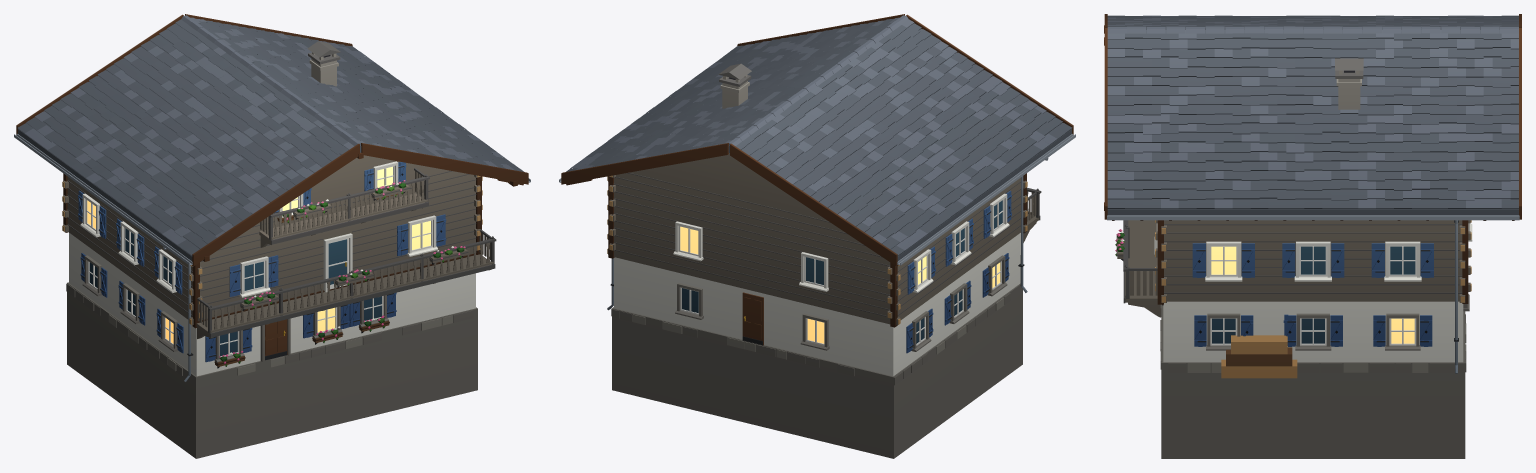
The model's file is Chalet_H.fbx.
The picture shows the model from 3 angles, left to right: view 1: azimuth 30°, elevation 25°; view 2: azimuth 150°, elevation 25°; view 3: azimuth 270°, elevation 25°; orthographic projection. The views are drawn at different scales.
Parts seen in each view (by area): view 1: Chalet_H_LOD0; view 2: Chalet_H_LOD0; view 3: Chalet_H_LOD0.
Part boxes in pixels (x1=…): Chalet_H_LOD0: x1=14, y1=14, x2=530, y2=458; Chalet_H_LOD0: x1=559, y1=14, x2=1075, y2=458; Chalet_H_LOD0: x1=1104, y1=14, x2=1521, y2=458.
Size of what is drawn, in the model's own units: 14.68 by 12.49 by 13.22.
1 material, 1 textured.
